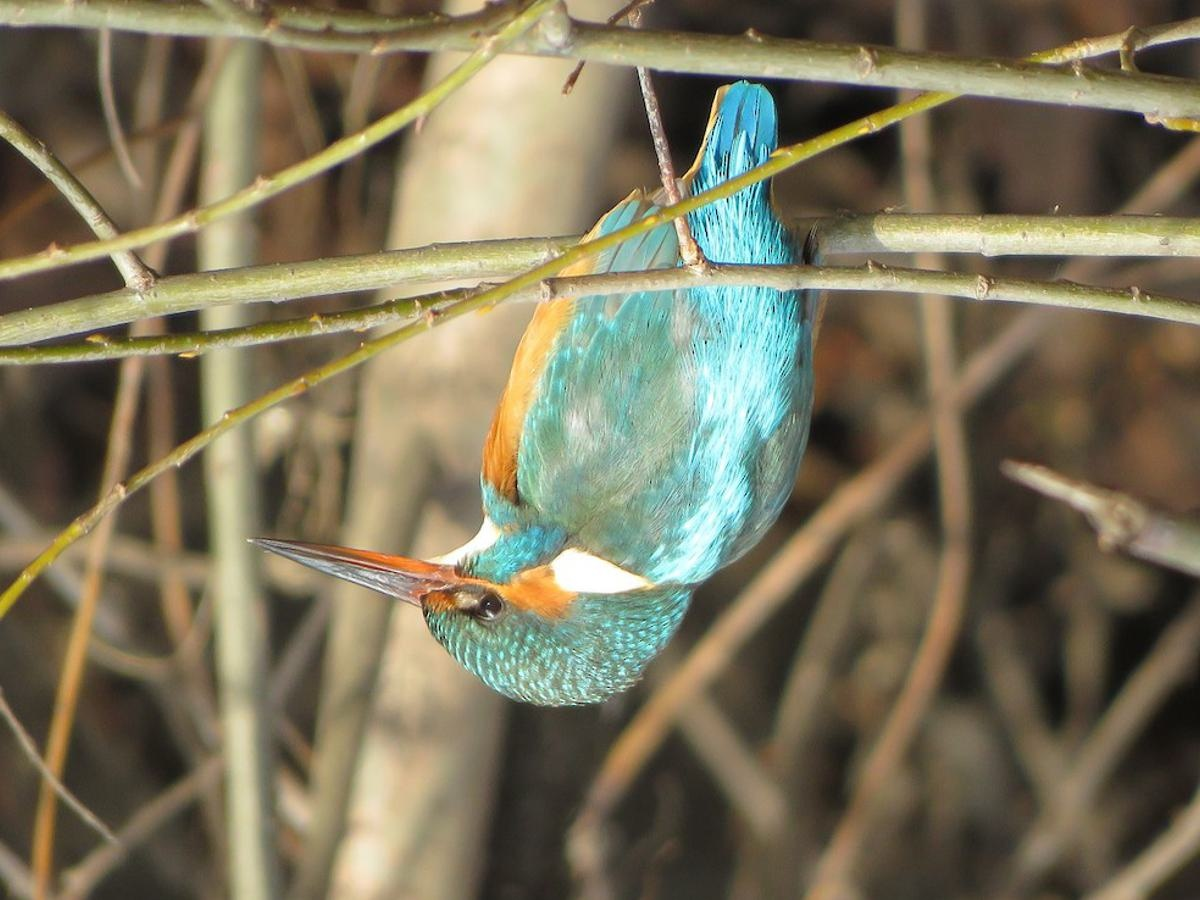kingfisher: (249, 95, 808, 718)
